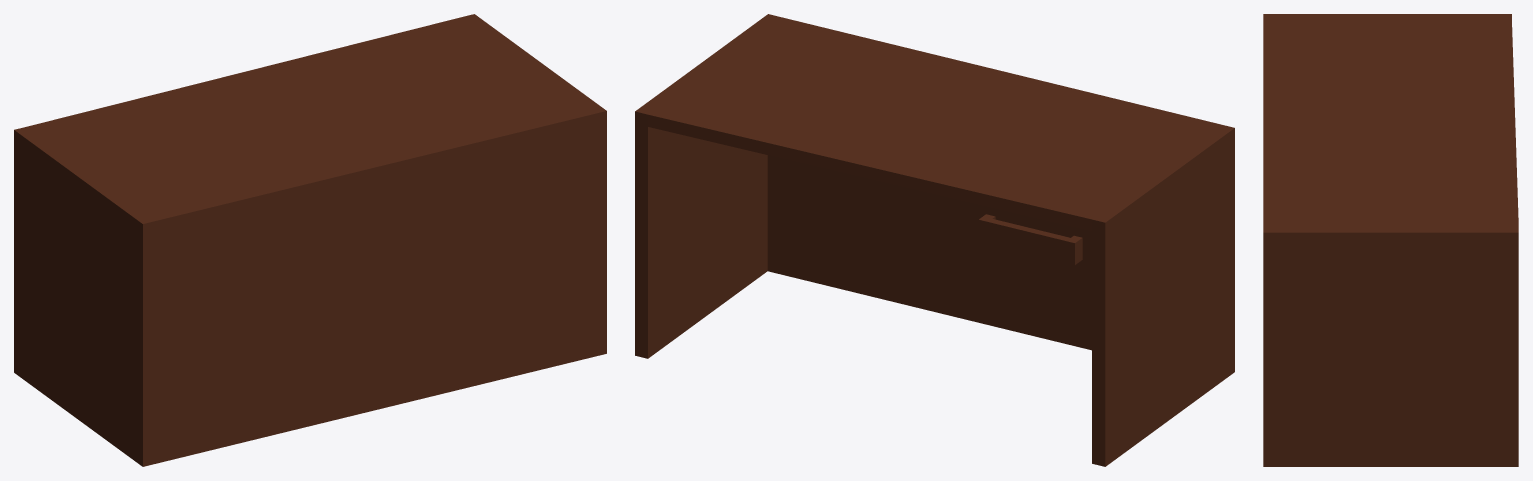
The model's file is buro_table.glb.
3 renders of one model, left to right at view 1: azimuth 30°, elevation 25°; view 2: azimuth 150°, elevation 25°; view 3: azimuth 270°, elevation 25°, orthographic. The views are drawn at different scales.
Parts seen in each view (by area): view 1: Cube; view 2: Cube; view 3: Cube.
Boxes of the visible parts, x1,y1,x2,y2 form: Cube: [14, 14, 606, 466]; Cube: [635, 14, 1234, 466]; Cube: [1263, 14, 1518, 466].
Bounding box in the file's own units: 4 × 2 × 1.98.
